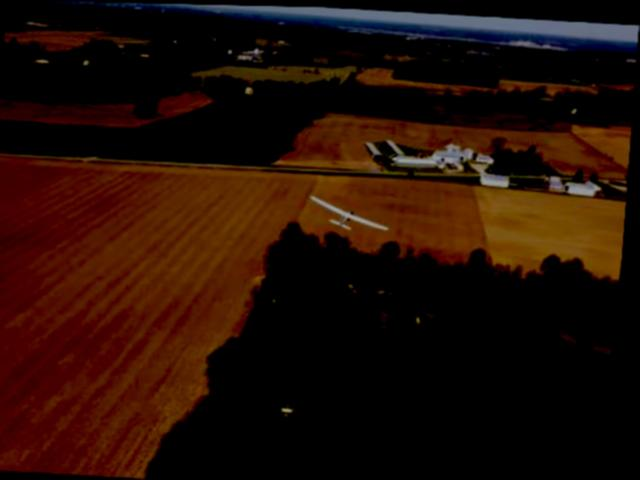uav: (303, 185, 398, 248)
